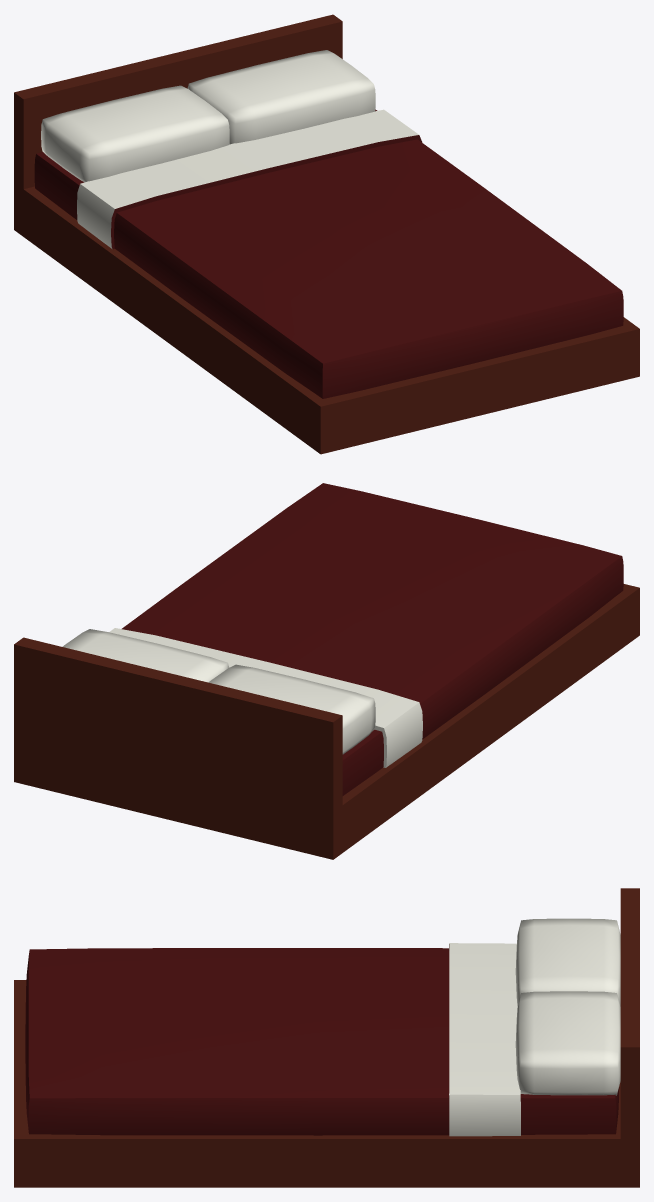
File: Bed.FBX
The picture shows the model from 3 angles, top to bottom: view 1: azimuth 30°, elevation 25°; view 2: azimuth 150°, elevation 25°; view 3: azimuth 270°, elevation 25°; orthographic projection. The views are drawn at different scales.
Parts seen in each view (by area): view 1: Box006; view 2: Box006; view 3: Box006.
Part boxes in pixels (bbox=[...]): Box006: bbox=[14, 14, 639, 454]; Box006: bbox=[14, 483, 639, 859]; Box006: bbox=[14, 888, 639, 1187].
Size of the model in its own units: 96.33 by 39.67 by 160.
